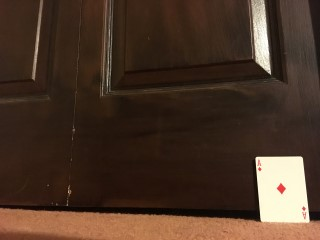AceOfDiamonds: (255, 156, 310, 223)
